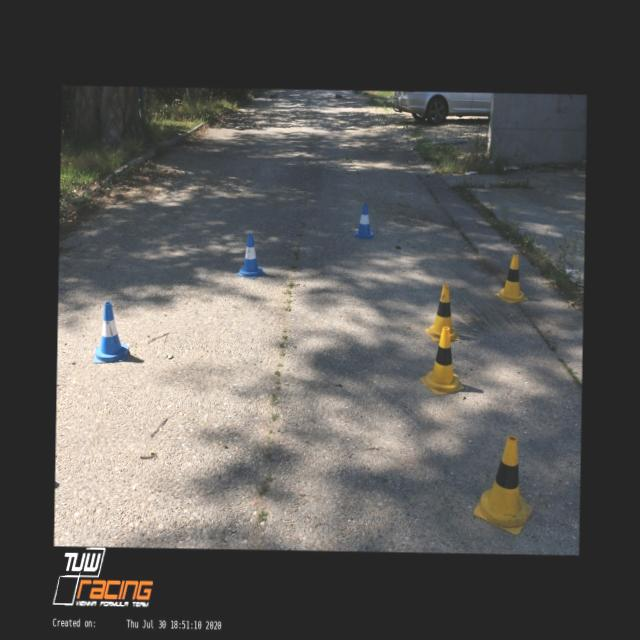blue_cone: (93, 301, 129, 363), (236, 232, 266, 278), (352, 202, 376, 238)
yellow_cone: (473, 434, 532, 534), (419, 326, 465, 394), (424, 284, 460, 342), (495, 254, 529, 304)
